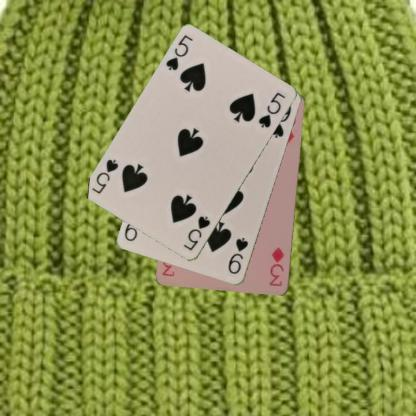3d: (267, 245, 286, 288)
5s: (163, 32, 195, 72), (181, 214, 212, 252)
9s: (225, 235, 250, 276)
